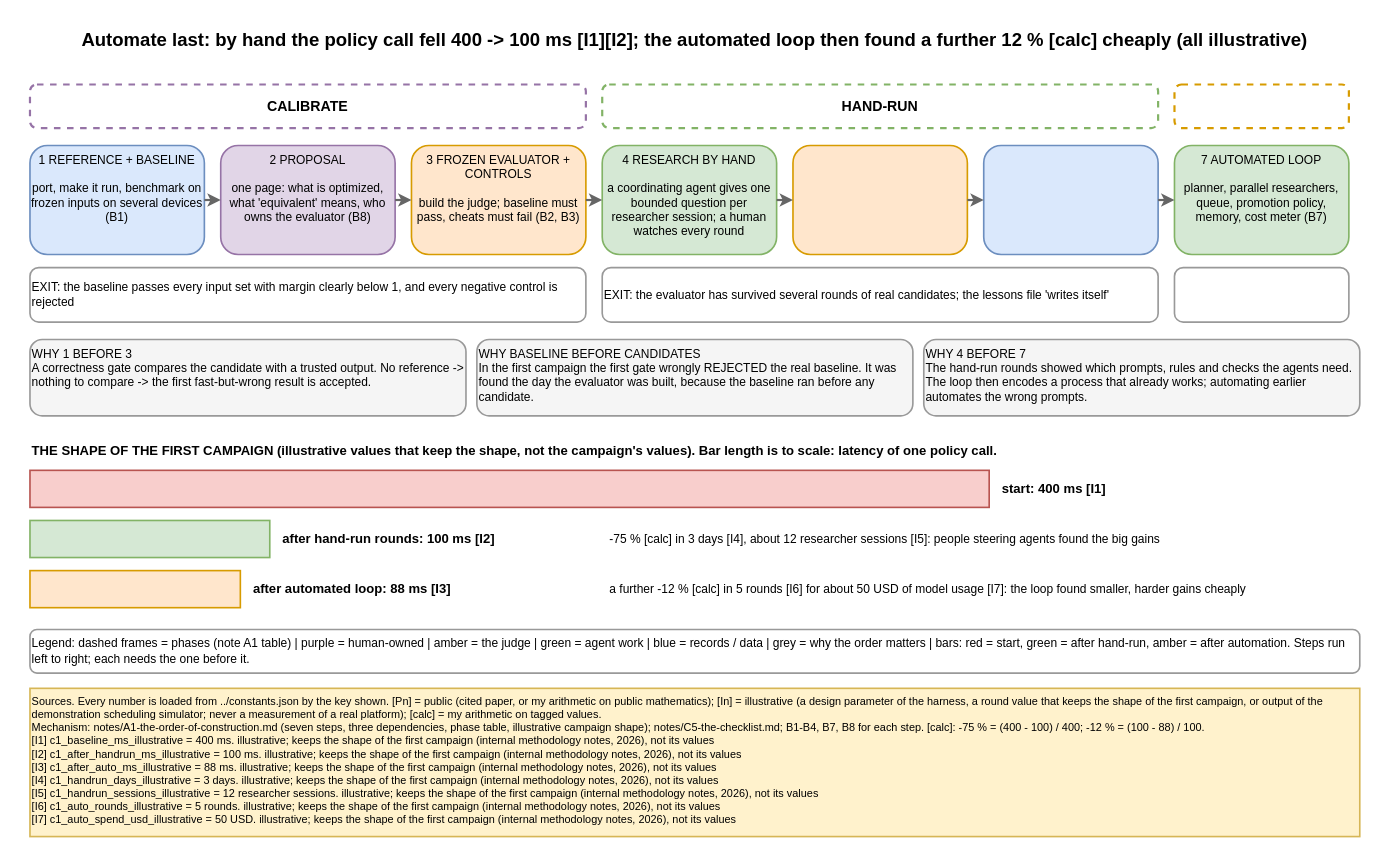
Image size: 1389x856. Some labels were removed from this diagram. Each missing label, with the centre of its shape:
"5 EVALUATOR HARDENING each new check answers a failure seen the day before" goes at point (880, 199).
"6 FIRST REPORT rebuilt from the evidence records (B4, B8)" goes at point (1070, 199).
"AUTOMATE" goes at point (1261, 106).
"START: small caps, few parallel researchers, cost metered from round one" goes at point (1261, 294).
